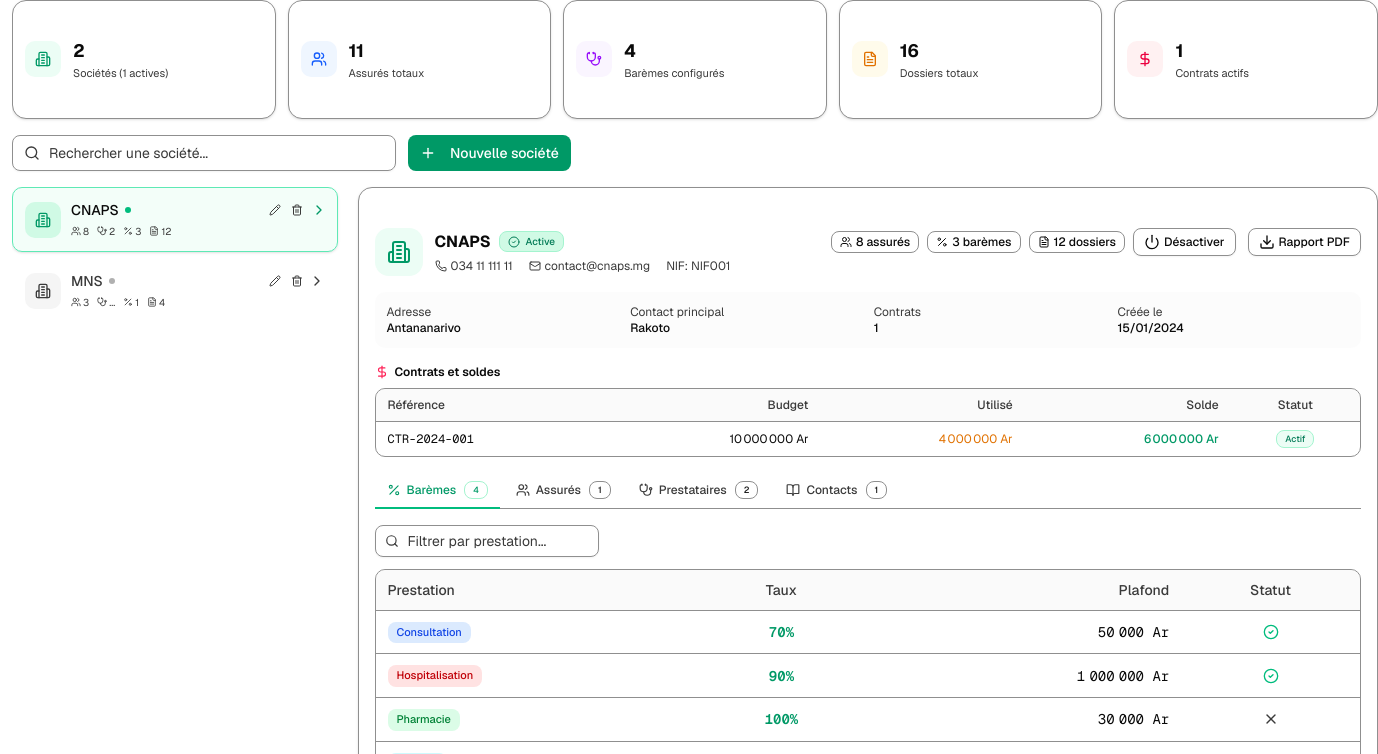
it: SocietesView — caractérisation › onglet Contacts : affiche les contacts entreprise et le bouton Ajouter
Click the button "Contacts 1" at (837, 490), box [774,472,899,508]
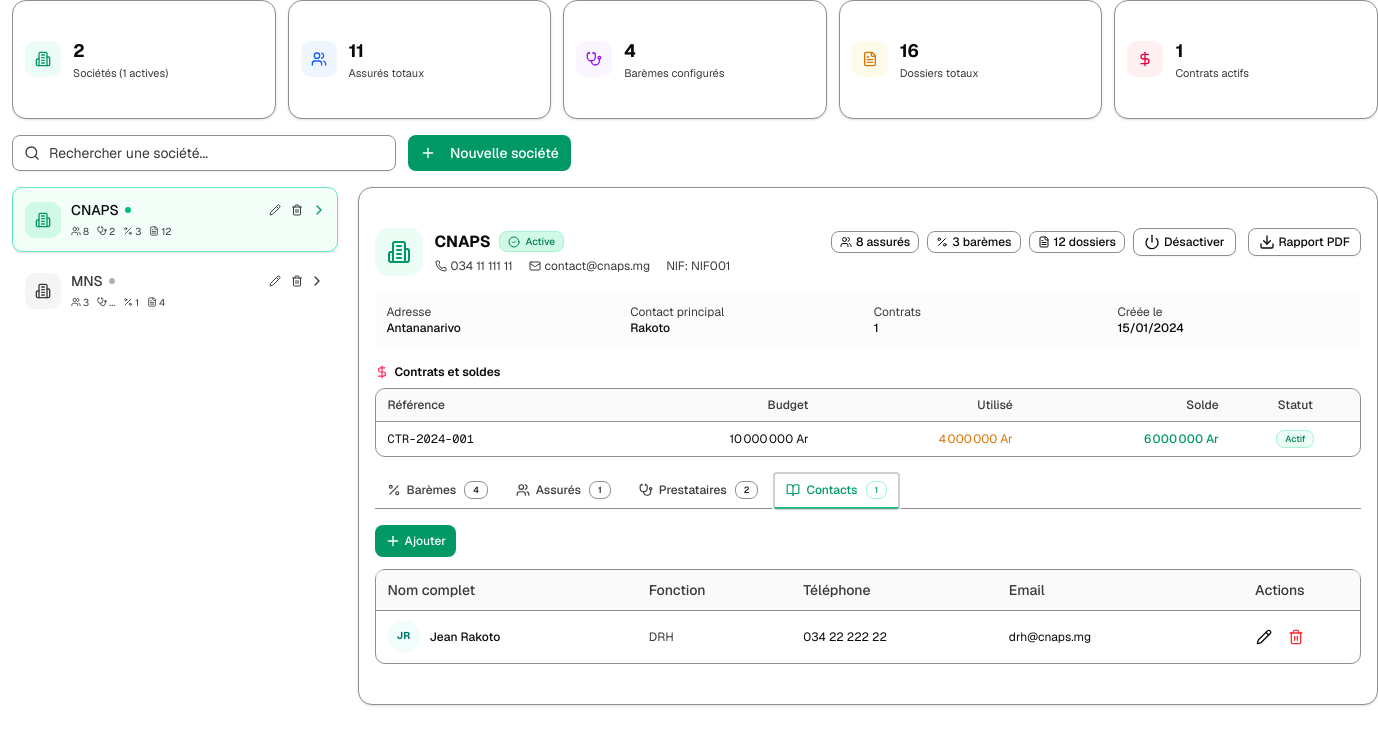
Expected: the text "Jean Rakoto" is shown, [430,628,500,644]
Expected: the text "DRH" is shown, [637,610,791,662]
Expected: the button "Ajouter" is shown, [374,524,456,556]
